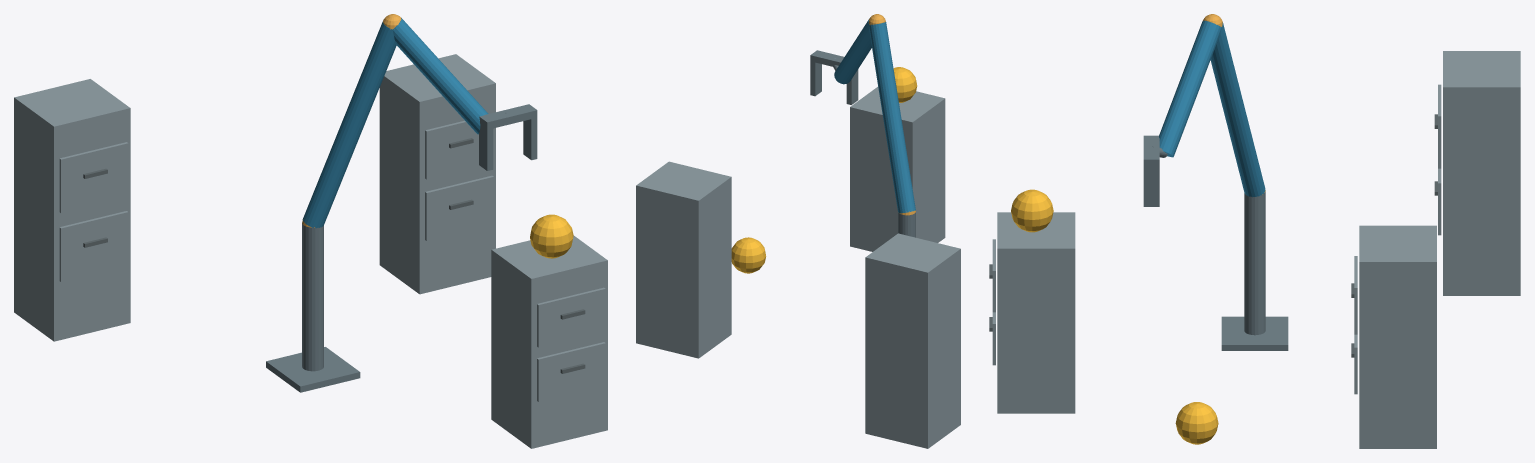
3 views of the same model, side by side, from view 1: azimuth 30°, elevation 25°; view 2: azimuth 150°, elevation 25°; view 3: azimuth 270°, elevation 25° (orthographic). The views are drawn at different scales.
Parts seen in each view (by area): view 1: cabinet_3 body, cabinet_2 body, cabinet_1 body, moving link 1, cabinet_3 drawer front, cabinet_3 drawer front.001, cabinet_2 drawer front, fixed post, cabinet_1 drawer front, cabinet_1 drawer front.001, moving link 2, cabinet_2 drawer front.001 (+5 smaller); view 2: cabinet_3 body, cabinet_2 body, cabinet_1 body, moving link 1, moving link 2, ball ball_2, released ball_1, gripper finger 1, fixed post, gripper bridge, gripper finger -1; view 3: cabinet_3 body, cabinet_2 body, cabinet_1 body, moving link 1, fixed post, moving link 2, pedestal, released ball_1, ball ball_2, gripper finger 1, gripper bridge.
Boxes of the visible parts, x1,y1,x2,y2 form: cabinet_3 body: [14, 79, 130, 341]; cabinet_2 body: [379, 54, 495, 294]; cabinet_1 body: [491, 235, 607, 448]; moving link 1: [302, 21, 396, 228]; cabinet_3 drawer front: [59, 211, 128, 281]; cabinet_3 drawer front.001: [59, 142, 128, 213]; cabinet_2 drawer front: [425, 175, 493, 240]; fixed post: [302, 222, 323, 371]; cabinet_1 drawer front: [537, 342, 605, 401]; cabinet_1 drawer front.001: [537, 287, 605, 347]; moving link 2: [392, 17, 488, 134]; cabinet_2 drawer front.001: [425, 120, 493, 179]; cabinet_3 body: [865, 233, 960, 448]; cabinet_2 body: [636, 161, 731, 358]; cabinet_1 body: [850, 86, 945, 251]; moving link 1: [869, 22, 915, 213]; moving link 2: [834, 18, 871, 84]; ball ball_2: [731, 237, 766, 273]; released ball_1: [893, 67, 917, 102]; gripper finger 1: [810, 61, 821, 96]; fixed post: [898, 212, 915, 237]; gripper bridge: [810, 50, 844, 66]; gripper finger -1: [846, 69, 858, 104]; cabinet_3 body: [1443, 51, 1520, 295]; cabinet_2 body: [1359, 225, 1436, 448]; cabinet_1 body: [997, 212, 1075, 413]; moving link 1: [1210, 22, 1265, 197]; fixed post: [1244, 192, 1265, 335]; moving link 2: [1159, 20, 1221, 157]; pedestal: [1221, 316, 1288, 350]; released ball_1: [1011, 189, 1053, 232]; ball ball_2: [1175, 402, 1218, 444]; gripper finger 1: [1143, 167, 1159, 206]; gripper bridge: [1143, 135, 1159, 166].
Bounding box in the file's own units: 1.69 × 1.44 × 1.98.
